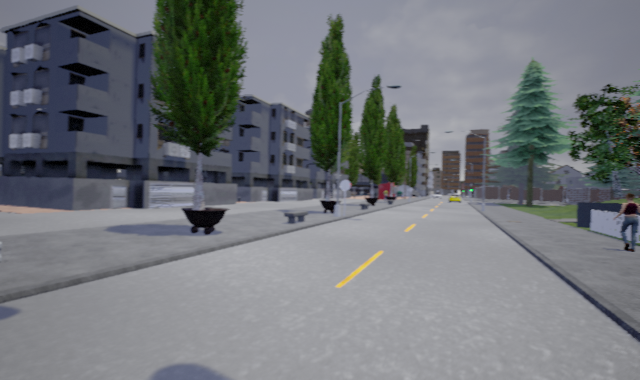pedestrian: (611, 190, 639, 253)
